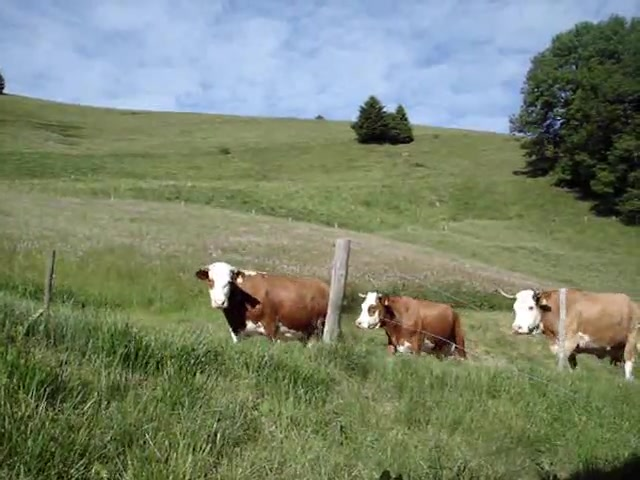cow: (193, 263, 331, 345)
